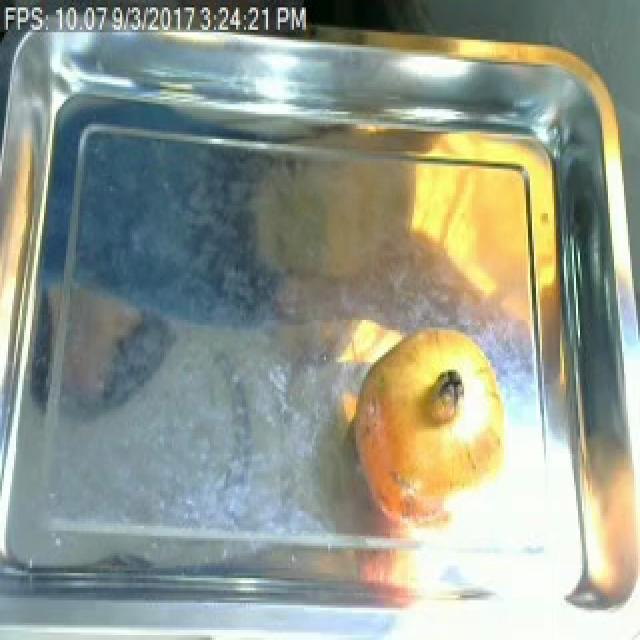fruit: (338, 312, 522, 546)
